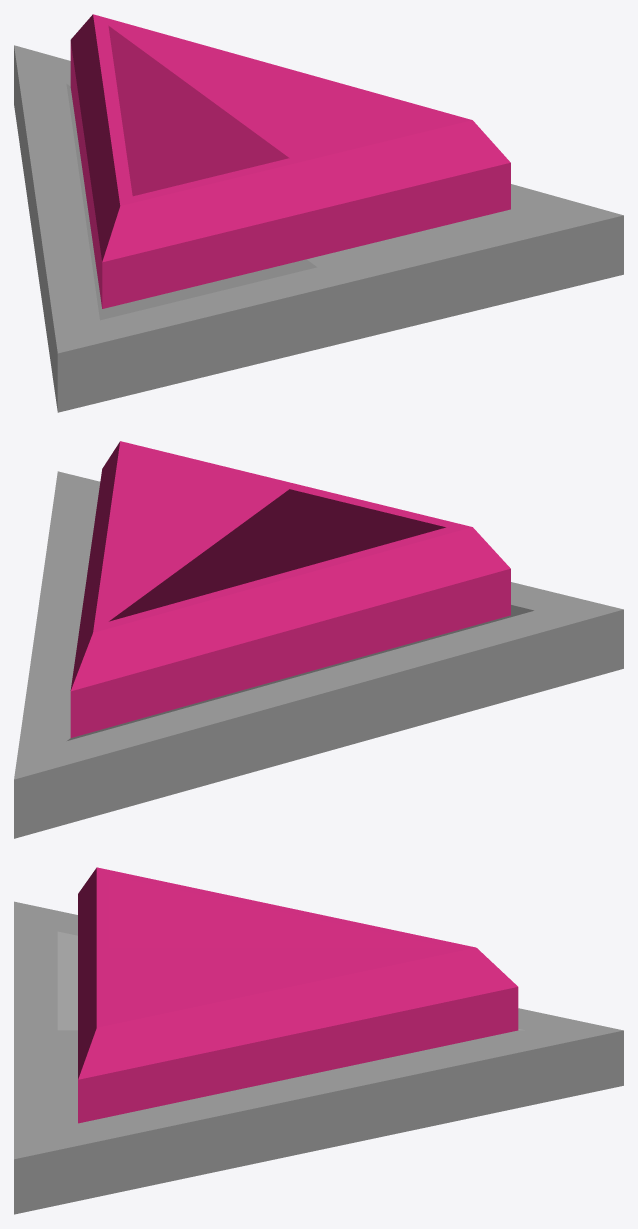
The model's file is PinkButton.fbx.
The picture shows the model from 3 angles, top to bottom: view 1: azimuth 30°, elevation 25°; view 2: azimuth 150°, elevation 25°; view 3: azimuth 270°, elevation 25°; orthographic projection. The views are drawn at different scales.
Parts seen in each view (by area): view 1: Plane.003, Plane.002; view 2: Plane.003, Plane.002; view 3: Plane.003, Plane.002.
Boxes of the visible parts, x1,y1,x2,y2 form: Plane.003: [70, 14, 510, 308]; Plane.002: [14, 45, 623, 412]; Plane.003: [70, 441, 510, 737]; Plane.002: [14, 471, 623, 838]; Plane.003: [78, 867, 518, 1123]; Plane.002: [14, 901, 623, 1214].
Size of the model in its own units: 200 by 49.98 by 200.
